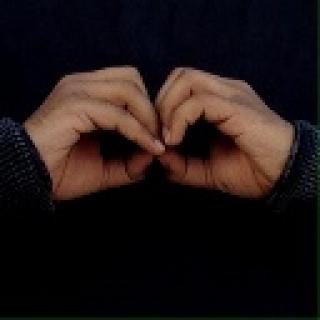B: (28, 61, 288, 211)
